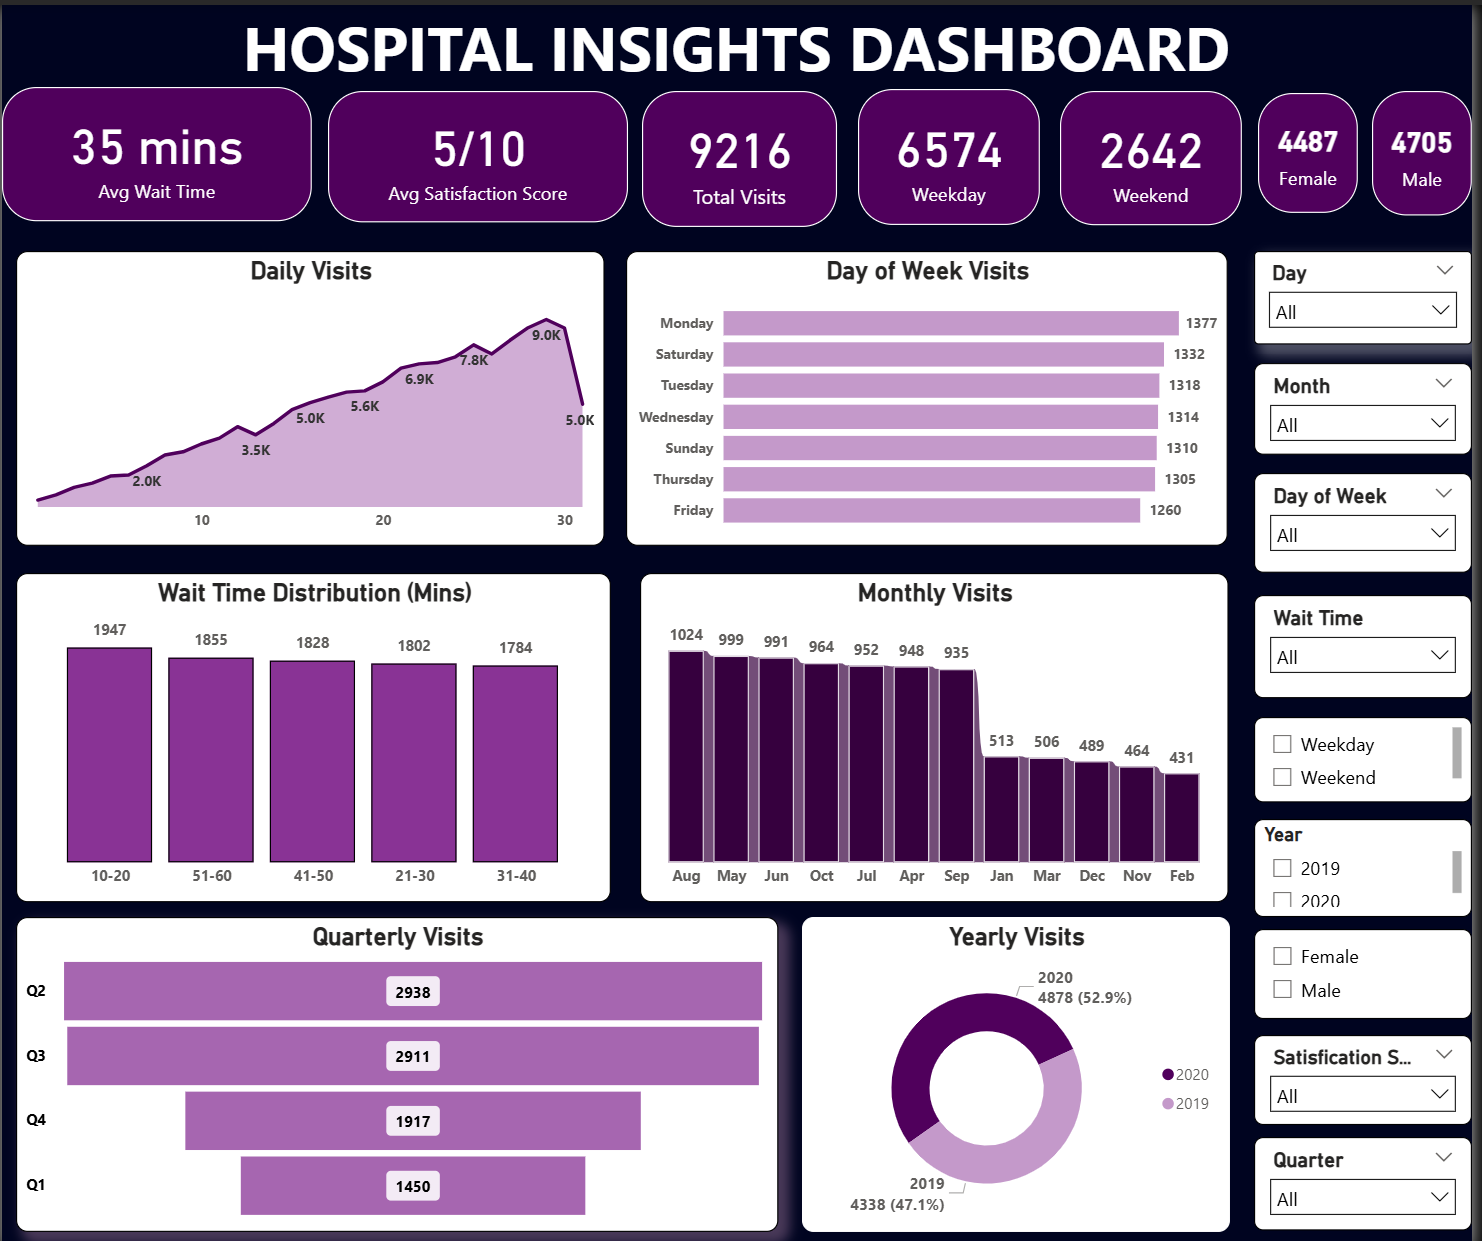

Layout of this report page (visuals, bound fields, positions):
{"tool":"powerbi","page":{"name":"Page 1","canvas":[1282,1086],"ordinal":0},"visuals":[{"type":"stackedAreaChart","title":"Daily Visits","fields":{"Y":["Sum(date_time table.day)"],"Category":["date_time table.day"]},"box":[12.9,214.3,512.9,257.1],"z":0},{"type":"columnChart","title":"Monthly Visits","fields":{"Category":["date_time table.month"],"Y":["CountNonNull(date_time table.month)"]},"box":[555.7,494.3,512.9,287.1],"z":1000},{"type":"donutChart","title":"Yearly Visits","fields":{"Y":["CountNonNull(date_time table.year)"],"Category":["date_time table.year"]},"box":[697.1,795.7,372.9,274.3],"z":2000},{"type":"clusteredBarChart","title":"Day of Week Visits","fields":{"Category":["date_time table.day of week"],"Y":["CountNonNull(date_time table.day of week)"]},"box":[544.3,214.3,524.3,257.1],"z":3000},{"type":"funnel","title":"Quarterly Visits","fields":{"Category":["date_time table.quarter"],"Y":["CountNonNull(date_time table.quarter)"]},"box":[12.9,795.7,664.3,274.3],"z":4000},{"type":"textbox","box":[0,0,1280,74.3],"z":6000},{"type":"lineStackedColumnComboChart","title":"Wait Time Distribution (Mins)","fields":{"Category":["date_time table.waittime_bucket"],"Y":["CountNonNull(date_time table.waittime_bucket)"]},"box":[12.9,494.3,518.6,287.1],"z":7000},{"type":"slicer","fields":{"Values":["date_time table.day of week"]},"box":[1091.4,407.1,190,87.1],"z":8000},{"type":"slicer","fields":{"Values":["date_time table.quarter"]},"box":[1091.4,987.1,190,81.4],"z":10000},{"type":"slicer","title":"Year","fields":{"Values":["date_time table.year"]},"box":[1091.4,710,190,85.7],"z":11000},{"type":"slicer","fields":{"Values":["date_time table.month"]},"box":[1091.4,312.9,190,80],"z":12000},{"type":"slicer","fields":{"Values":["date_time table.day"]},"box":[1091.4,214.3,190,81.4],"z":13000},{"type":"slicer","fields":{"Values":["patient table.patient_gender"]},"box":[1091.4,805.7,190,78.6],"z":14000},{"type":"slicer","fields":{"Values":["date_time table.weekday/weekend"]},"box":[1091.4,620,190,74.3],"z":15000},{"type":"slicer","fields":{"Values":["date_time table.waittime_bucket"]},"box":[1091.4,514.3,190,90],"z":16000},{"type":"slicer","fields":{"Values":["activity table.satisfication_score"]},"box":[1091.4,897.1,190,78.6],"z":17000},{"type":"card","fields":{"Values":["Count(patient table.patient_id)"]},"box":[558.6,74.3,170,118.6],"z":18000},{"type":"card","fields":{"Values":["CountNonNull(patient table.patient_gender)"]},"box":[1194.3,74.3,87.1,108.6],"z":19000},{"type":"card","fields":{"Values":["CountNonNull(patient table.patient_gender)"]},"box":[1094.3,77.1,87.1,104.3],"z":20000},{"type":"card","fields":{"Values":["date_time table.Avg Wait Time"]},"box":[0,71.4,270,117.1],"z":21000},{"type":"card","fields":{"Values":["date_time table.Avg Satisfication Score"]},"box":[284.3,74.3,261.4,114.3],"z":22000},{"type":"card","fields":{"Values":["CountNonNull(date_time table.weekday/weekend)"]},"box":[745.7,72.9,158.6,118.6],"z":23000},{"type":"card","fields":{"Values":["CountNonNull(date_time table.weekday/weekend)"]},"box":[921.4,74.3,158.6,117.1],"z":24000}]}

Visuals, with their boxes in screenshot pixels (x1, y1, x2, y2), scaled from the page's 1282x1086 canvas onto the 1482x1241 screenshot:
"Daily Visits" stackedAreaChart: {"left": 15, "top": 245, "right": 608, "bottom": 539}
"Monthly Visits" columnChart: {"left": 642, "top": 565, "right": 1235, "bottom": 893}
"Yearly Visits" donutChart: {"left": 806, "top": 909, "right": 1237, "bottom": 1223}
"Day of Week Visits" clusteredBarChart: {"left": 629, "top": 245, "right": 1235, "bottom": 539}
"Quarterly Visits" funnel: {"left": 15, "top": 909, "right": 783, "bottom": 1223}
textbox: {"left": 0, "top": 0, "right": 1480, "bottom": 85}
"Wait Time Distribution (Mins)" lineStackedColumnComboChart: {"left": 15, "top": 565, "right": 614, "bottom": 893}
slicer - date_time table.day of week: {"left": 1262, "top": 465, "right": 1481, "bottom": 565}
slicer - date_time table.quarter: {"left": 1262, "top": 1128, "right": 1481, "bottom": 1221}
"Year" slicer: {"left": 1262, "top": 811, "right": 1481, "bottom": 909}
slicer - date_time table.month: {"left": 1262, "top": 358, "right": 1481, "bottom": 449}
slicer - date_time table.day: {"left": 1262, "top": 245, "right": 1481, "bottom": 338}
slicer - patient table.patient_gender: {"left": 1262, "top": 921, "right": 1481, "bottom": 1011}
slicer - date_time table.weekday/weekend: {"left": 1262, "top": 708, "right": 1481, "bottom": 793}
slicer - date_time table.waittime_bucket: {"left": 1262, "top": 588, "right": 1481, "bottom": 691}
slicer - activity table.satisfication_score: {"left": 1262, "top": 1025, "right": 1481, "bottom": 1115}
card - Count(patient table.patient_id): {"left": 646, "top": 85, "right": 842, "bottom": 220}
card - CountNonNull(patient table.patient_gender): {"left": 1381, "top": 85, "right": 1481, "bottom": 209}
card - CountNonNull(patient table.patient_gender): {"left": 1265, "top": 88, "right": 1366, "bottom": 207}
card - date_time table.Avg Wait Time: {"left": 0, "top": 82, "right": 312, "bottom": 215}
card - date_time table.Avg Satisfication Score: {"left": 329, "top": 85, "right": 631, "bottom": 216}
card - CountNonNull(date_time table.weekday/weekend): {"left": 862, "top": 83, "right": 1045, "bottom": 219}
card - CountNonNull(date_time table.weekday/weekend): {"left": 1065, "top": 85, "right": 1248, "bottom": 219}
